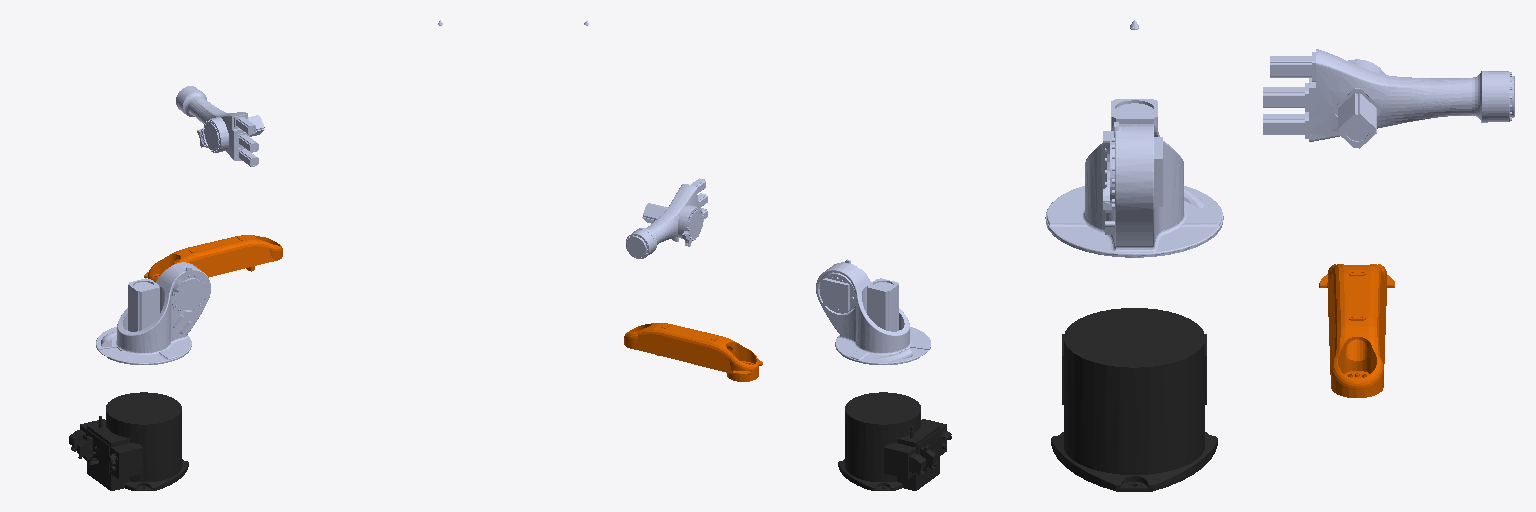
robot.urdf — kuka_robot_model:
<?xml version="1.0" encoding="utf-8"?>
<!-- This URDF was automatically created by SolidWorks to URDF Exporter! Originally created by Stephen Brawner (brawner@gmail.com) 
     Commit Version: 1.6.0-1-g15f4949  Build Version: 1.6.7594.29634
     For more information, please see http://wiki.ros.org/sw_urdf_exporter -->
<robot
  name="kuka_robot_model">
  <link
    name="base_link">
    <inertial>
      <origin
        xyz="-0.0426387399246904 0.00120494781344148 0.188915669452815"
        rpy="0 0 0" />
      <mass
        value="70.6566496686255" />
      <inertia
        ixx="1.73798204711947"
        ixy="0.02431889746298"
        ixz="-0.0609302227214225"
        iyy="2.15273097707231"
        iyz="-0.000472279481941962"
        izz="2.20409997820189" />
    </inertial>
    <visual>
      <origin
        xyz="0 0 0"
        rpy="0 0 0" />
      <geometry>
        <mesh
          filename="package://kuka_robot_model/meshes/base_link.STL" />
      </geometry>
      <material
        name="">
        <color
          rgba="0.2 0.2 0.2 1" />
      </material>
    </visual>
    <collision>
      <origin
        xyz="0 0 0"
        rpy="0 0 0" />
      <geometry>
        <mesh
          filename="package://kuka_robot_model/meshes/base_link.STL" />
      </geometry>
    </collision>
  </link>
  <link
    name="link_0">
    <inertial>
      <origin
        xyz="0.109677612998656 5.91258985712703E-05 0.172675709566986"
        rpy="0 0 0" />
      <mass
        value="26.7918343080855" />
      <inertia
        ixx="0.505263985406751"
        ixy="0.00647053798160705"
        ixz="-0.224946176954269"
        iyy="0.790027126002048"
        iyz="0.00359311676361178"
        izz="0.563727206439864" />
    </inertial>
    <visual>
      <origin
        xyz="0 0 0"
        rpy="0 0 0" />
      <geometry>
        <mesh
          filename="package://kuka_robot_model/meshes/link_0.STL" />
      </geometry>
      <material
        name="">
        <color
          rgba="0.792156862745098 0.819607843137255 0.933333333333333 1" />
      </material>
    </visual>
    <collision>
      <origin
        xyz="0 0 0"
        rpy="0 0 0" />
      <geometry>
        <mesh
          filename="package://kuka_robot_model/meshes/link_0.STL" />
      </geometry>
    </collision>
  </link>
  <joint
    name="joint_0"
    type="revolute">
    <origin
      xyz="0 0 0.393"
      rpy="0 0 0" />
    <parent
      link="base_link" />
    <child
      link="link_0" />
    <axis
      xyz="0 0 1" />
    <limit
      lower="-3.14"
      upper="3.14"
      effort="0"
      velocity="0" />
  </joint>
  <link
    name="link_1">
    <inertial>
      <origin
        xyz="0.309410571321881 0.000165137188215758 -0.165481242239262"
        rpy="0 0 0" />
      <mass
        value="11.8607129897285" />
      <inertia
        ixx="0.0550509577082055"
        ixy="-0.000472639070529204"
        ixz="0.0235093920951672"
        iyy="0.546358420662456"
        iyz="-0.000147076347214141"
        izz="0.548724108092398" />
    </inertial>
    <visual>
      <origin
        xyz="0 0 0"
        rpy="0 0 0" />
      <geometry>
        <mesh
          filename="package://kuka_robot_model/meshes/link_1.STL" />
      </geometry>
      <material
        name="">
        <color
          rgba="0.909803921568627 0.443137254901961 0.0313725490196078 1" />
      </material>
    </visual>
    <collision>
      <origin
        xyz="0 0 0"
        rpy="0 0 0" />
      <geometry>
        <mesh
          filename="package://kuka_robot_model/meshes/link_1.STL" />
      </geometry>
    </collision>
  </link>
  <joint
    name="joint_1"
    type="revolute">
    <origin
      xyz="0.26 0 0.282"
      rpy="-1.5707963267949 0 0" />
    <parent
      link="link_0" />
    <child
      link="link_1" />
    <axis
      xyz="0 0 1" />
    <limit
      lower="-2.7053"
      upper="0.61087"
      effort="0"
      velocity="0" />
  </joint>
  <link
    name="link_2">
    <inertial>
      <origin
        xyz="0.0749794002488318 0.0126556229829589 -0.000359273364480071"
        rpy="0 0 0" />
      <mass
        value="14.3247272113229" />
      <inertia
        ixx="0.056791524926814"
        ixy="-0.00917182813002567"
        ixz="-0.0176248992664071"
        iyy="0.430464603941643"
        iyz="-0.00284584191133136"
        izz="0.439808938177712" />
    </inertial>
    <visual>
      <origin
        xyz="0 0 0"
        rpy="0 0 0" />
      <geometry>
        <mesh
          filename="package://kuka_robot_model/meshes/link_2.STL" />
      </geometry>
      <material
        name="">
        <color
          rgba="0.792156862745098 0.819607843137255 0.933333333333333 1" />
      </material>
    </visual>
    <collision>
      <origin
        xyz="0 0 0"
        rpy="0 0 0" />
      <geometry>
        <mesh
          filename="package://kuka_robot_model/meshes/link_2.STL" />
      </geometry>
    </collision>
  </link>
  <joint
    name="joint_2"
    type="revolute">
    <origin
      xyz="0.68 0 0"
      rpy="0 0 -1.5707963267949" />
    <parent
      link="link_1" />
    <child
      link="link_2" />
    <axis
      xyz="0 0 1" />
    <limit
      lower="-2.2689"
      upper="2.6878"
      effort="0"
      velocity="0" />
  </joint>
  <link
    name="end_tip">
    <inertial>
      <origin
        xyz="1.11022302462516E-16 0 -0.0162709273663177"
        rpy="0 0 0" />
      <mass
        value="0.00799199657701506" />
      <inertia
        ixx="5.45670167567479E-07"
        ixy="-1.82440057011488E-39"
        ixz="-1.99335952260159E-23"
        iyy="5.45670167567479E-07"
        iyz="1.50183667997762E-39"
        izz="6.29006026066331E-07" />
    </inertial>
    <visual>
      <origin
        xyz="0 0 0"
        rpy="0 0 0" />
      <geometry>
        <mesh
          filename="package://kuka_robot_model/meshes/end_tip.STL" />
      </geometry>
      <material
        name="">
        <color
          rgba="0.792156862745098 0.819607843137255 0.933333333333333 1" />
      </material>
    </visual>
    <collision>
      <origin
        xyz="0 0 0"
        rpy="0 0 0" />
      <geometry>
        <mesh
          filename="package://kuka_robot_model/meshes/end_tip.STL" />
      </geometry>
    </collision>
  </link>
  <joint
    name="end_tip"
    type="fixed">
    <origin
      xyz="0.5 0.0225 0"
      rpy="1.5707963267949 0 1.5707963267949" />
    <parent
      link="link_2" />
    <child
      link="end_tip" />
    <axis
      xyz="0 0 0" />
  </joint>
</robot>

--- Render facts (derived) ---
3 views of the same robot in one strip: view 1: azimuth 30°, elevation 25°; view 2: azimuth 150°, elevation 25°; view 3: azimuth 270°, elevation 25° (orthographic).
Model kuka_robot_model with 5 links and 4 joints (3 revolute, 1 fixed), rooted at base_link, posed all joints at 0.
Visible links, largest first — view 1: base_link, link_0, link_2, link_1; view 2: base_link, link_0, link_1, link_2; view 3: base_link, link_0, link_2, link_1.
Link boxes in pixels (<box>): base_link: <box>69,392,188,490</box>; link_0: <box>96,262,210,364</box>; link_2: <box>176,86,264,166</box>; link_1: <box>144,235,282,281</box>; base_link: <box>838,392,951,490</box>; link_0: <box>816,259,930,364</box>; link_1: <box>624,323,762,381</box>; link_2: <box>626,178,707,258</box>; base_link: <box>1051,308,1217,491</box>; link_0: <box>1045,99,1223,257</box>; link_2: <box>1263,49,1514,148</box>; link_1: <box>1319,264,1394,397</box>.
Size in the robot's own frame: 2.32 by 1.42 by 2.35 metres.
Meshes: 5 distinct files referenced, 5 mesh visuals loaded (5 binary STL).
